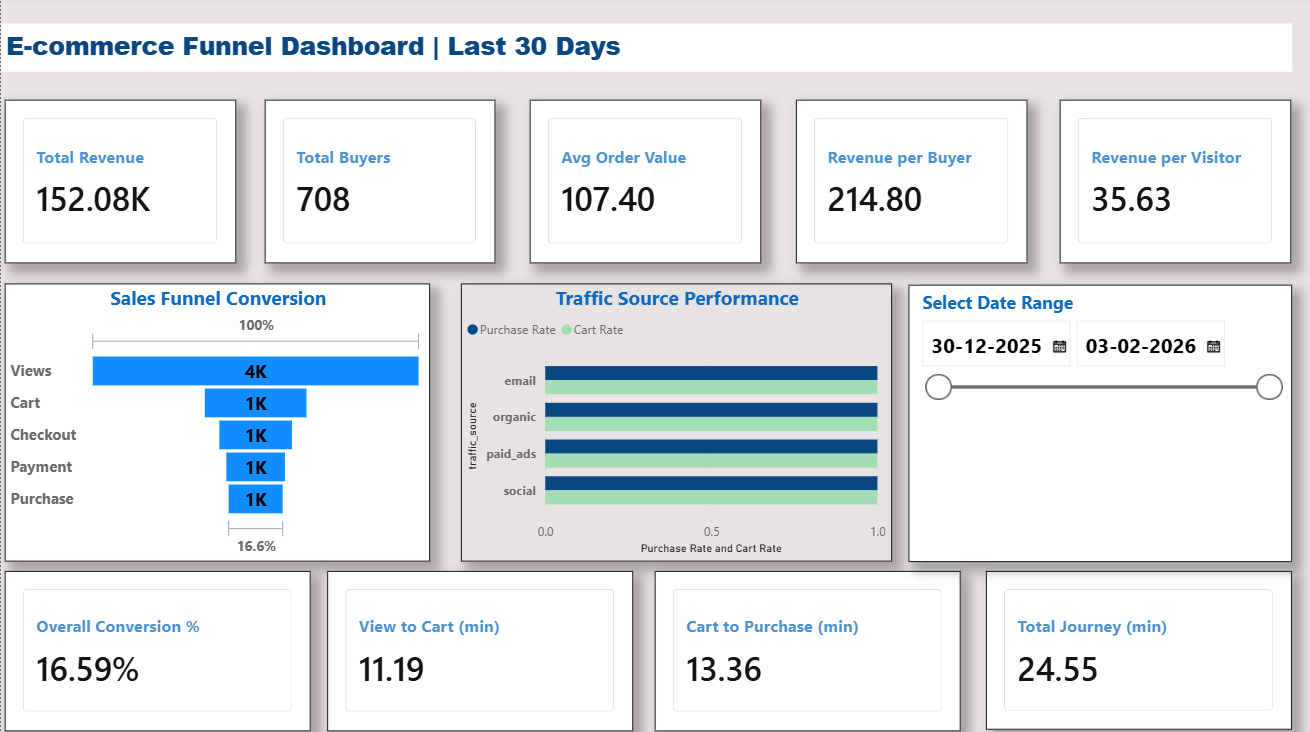

The page's visual inventory and layout, read from the dashboard file:
{"tool":"powerbi","page":{"name":"Page 1","canvas":[1280,720],"ordinal":0},"visuals":[{"type":"cardVisual","fields":{"Data":["Sum(vm_revenue_summary.Total Revenue)"]},"box":[4.3,101.2,226.6,159.6],"z":0},{"type":"cardVisual","fields":{"Data":["Sum(vm_revenue_summary.total_buyers)"]},"box":[258,101.2,225.2,159.6],"z":1000},{"type":"cardVisual","fields":{"Data":["Sum(vm_revenue_summary.avg_order_value)"]},"box":[517.4,101.2,226.6,159.6],"z":2000},{"type":"cardVisual","fields":{"Data":["Sum(vm_revenue_summary.revenue_per_buyer)"]},"box":[778.3,101.2,226.6,159.6],"z":3000},{"type":"cardVisual","fields":{"Data":["Sum(vm_revenue_summary.revenue_per_visitor)"]},"box":[1036.3,101.2,226.6,159.6],"z":4000},{"type":"funnel","title":"Sales Funnel Conversion","fields":{"Category":["vw_funnel_conversion.stage_name"],"Y":["Sum(vw_funnel_conversion.Count)"]},"box":[4.3,280.8,416.2,272.2],"z":5000},{"type":"clusteredBarChart","title":"Traffic Source Performance","fields":{"Category":["vm_source_performance.traffic_source"],"Y":["CountNonNull(vm_source_performance.Purchase_Conversion_rate)","CountNonNull(vm_source_performance.Cart_Conversion_rate)"]},"box":[449.5,281.2,421.7,271.9],"z":6000},{"type":"cardVisual","fields":{"Data":["Sum(vm_conversion_time.avg_view_to_cart_minutes)"]},"box":[319.3,563,299.3,156.8],"z":7000},{"type":"cardVisual","fields":{"Data":["Sum(vm_conversion_time.avg_total_journey_minutes)"]},"box":[963.6,563,299.3,155.4],"z":8000},{"type":"cardVisual","fields":{"Data":["Sum(vm_conversion_time.avg_cart_to_purchase_minutes)"]},"box":[640,563,299.3,156.8],"z":9000},{"type":"cardVisual","fields":{"Data":["user_events.Overall Conversion Display"]},"box":[4.3,563,299.3,156.8],"z":10000},{"type":"textbox","box":[0,27.1,1262.9,47],"z":11000},{"type":"slicer","fields":{"Values":["user_events.event_date_only"]},"box":[888,282.2,374.9,270.8],"z":11001}]}

Visuals, with their boxes in screenshot pixels (x1, y1, x2, y2), scaled from the page's 1280x720 canvas onto the 1310x732 screenshot:
cardVisual - Sum(vm_revenue_summary.Total Revenue): [4,103,236,265]
cardVisual - Sum(vm_revenue_summary.total_buyers): [264,103,495,265]
cardVisual - Sum(vm_revenue_summary.avg_order_value): [530,103,761,265]
cardVisual - Sum(vm_revenue_summary.revenue_per_buyer): [797,103,1028,265]
cardVisual - Sum(vm_revenue_summary.revenue_per_visitor): [1061,103,1292,265]
"Sales Funnel Conversion" funnel: [4,285,430,562]
"Traffic Source Performance" clusteredBarChart: [460,286,892,562]
cardVisual - Sum(vm_conversion_time.avg_view_to_cart_minutes): [327,572,633,731]
cardVisual - Sum(vm_conversion_time.avg_total_journey_minutes): [986,572,1292,730]
cardVisual - Sum(vm_conversion_time.avg_cart_to_purchase_minutes): [655,572,961,731]
cardVisual - user_events.Overall Conversion Display: [4,572,311,731]
textbox: [0,28,1292,75]
slicer - user_events.event_date_only: [909,287,1292,562]
